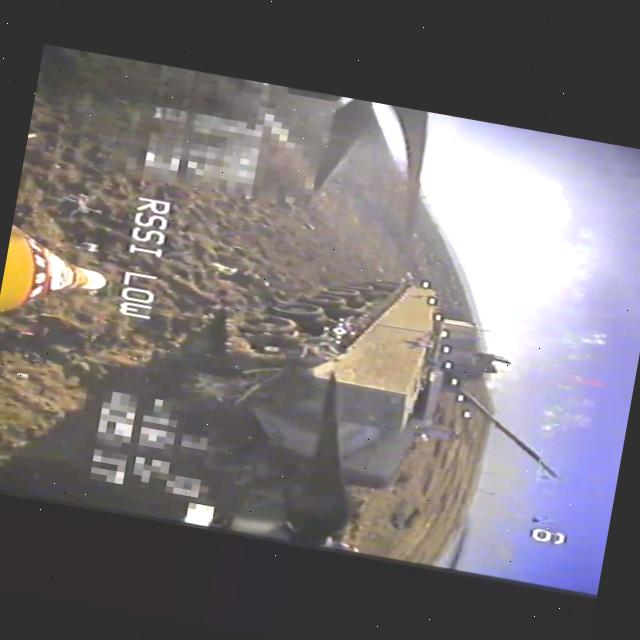AIFV: (207, 256, 589, 510)
